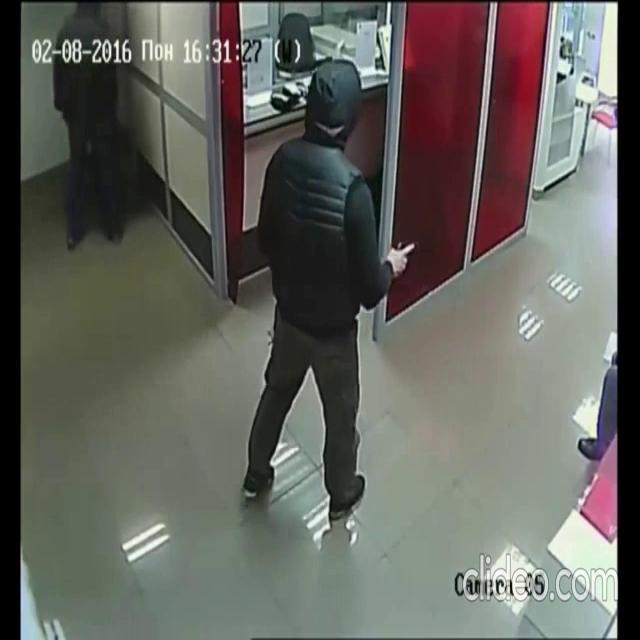pistol: (385, 234, 417, 282)
